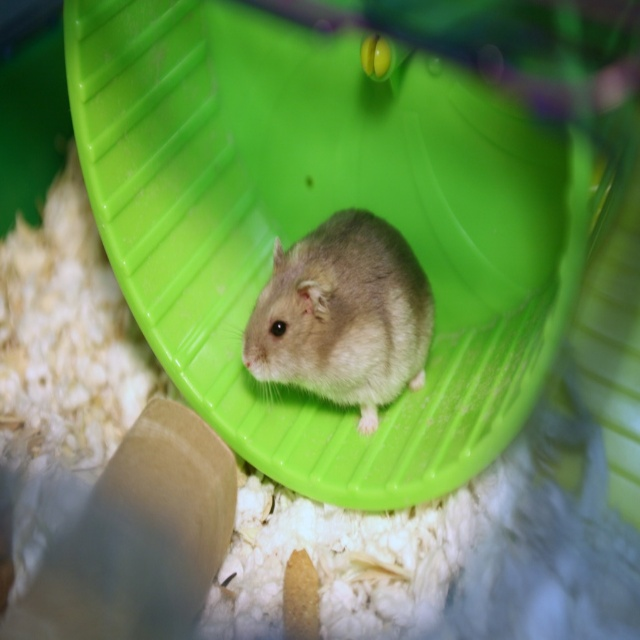Mouse: (242, 211, 434, 433)
